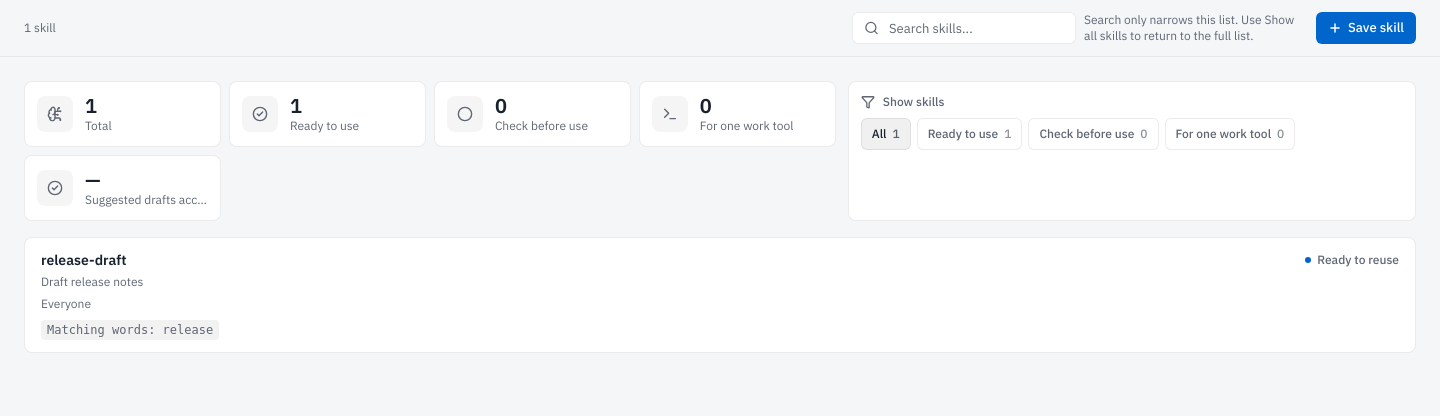
it: SkillsView › guides hidden saved guidance back to the full list
This screenshot has width=1440, height=416.
Expected: the text "release-draft" is shown, [41,251,126,269]
Step 1. Type "handoff checklist" into the search field labelled "Search skills..." → point(964, 28), box [852,12,1076,44]
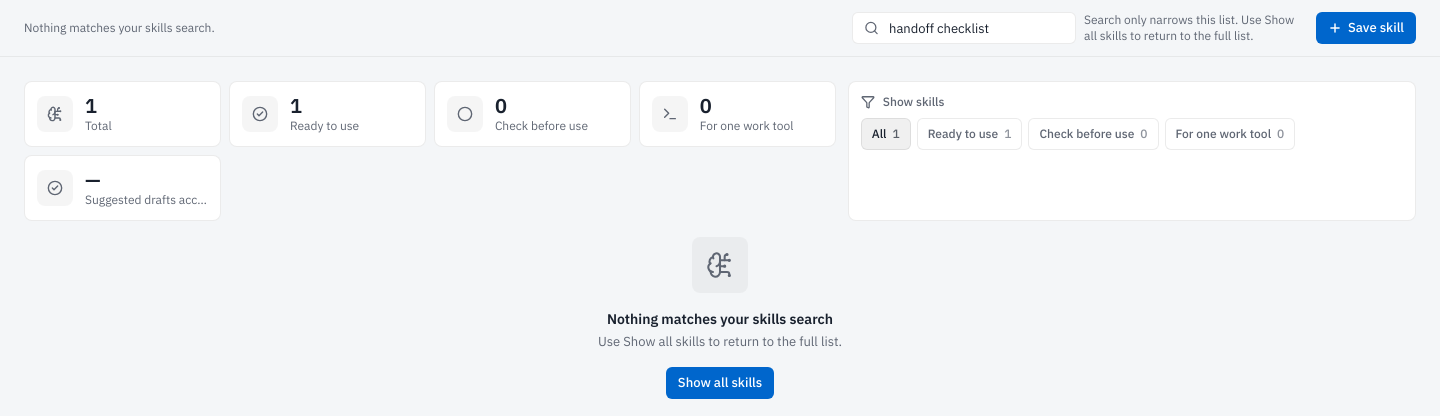
Expected: the text "Nothing matches your skills search." is shown, [24,20,215,36]
Expected: the message with test id "saved-instructions-empty-state" shows "Nothing matches your skills search", [607,310,833,328]
Expected: the message with test id "saved-instructions-empty-state" shows "Use Show all skills to return to the full list.", [598,333,842,350]
Step 2. Click the button "Show all skills" → point(720, 383), box [666,367,774,399]
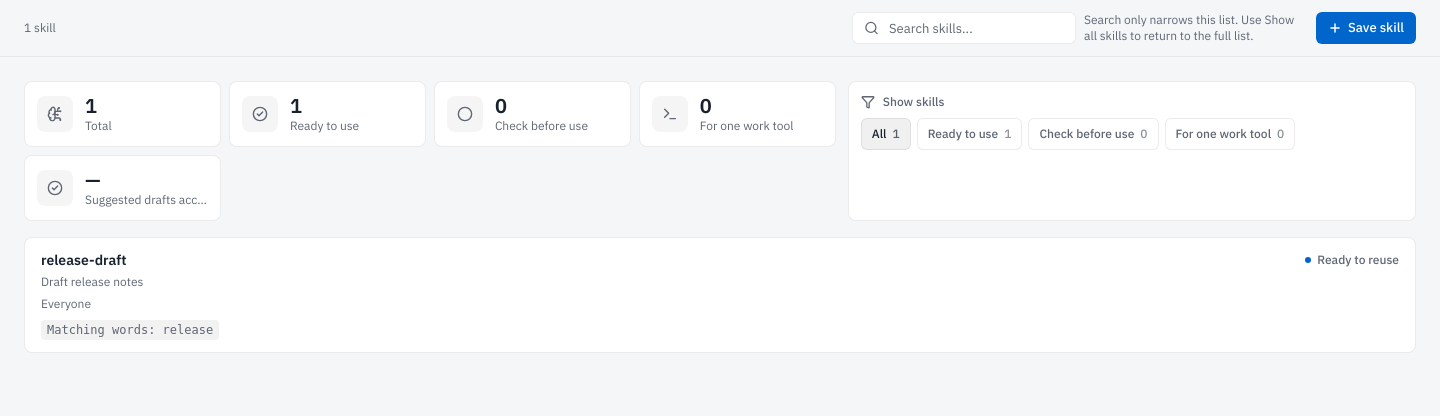
Expected: the search field labelled "Search skills..." is empty, [852,12,1076,44]
Expected: the text "release-draft" is shown, [41,251,126,269]
